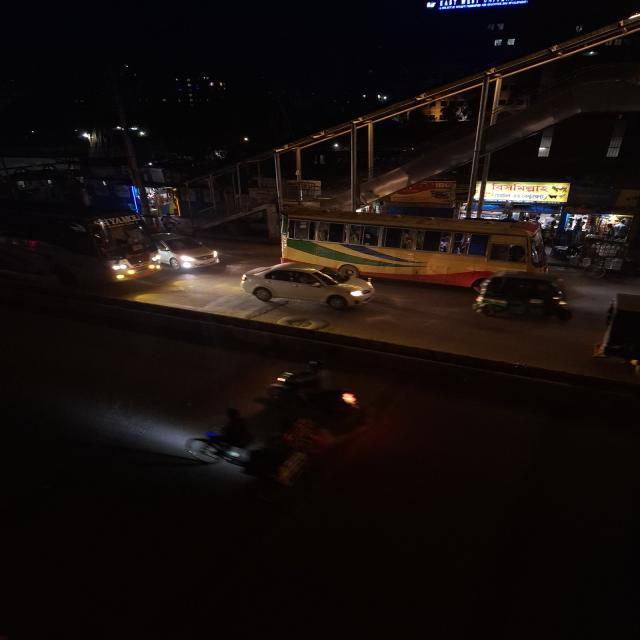bus: (278, 219, 550, 286), (50, 207, 152, 289)
car: (237, 260, 378, 314), (466, 273, 575, 318), (154, 232, 225, 274)
cng: (590, 296, 640, 378)
rickshaw: (178, 397, 378, 490)
